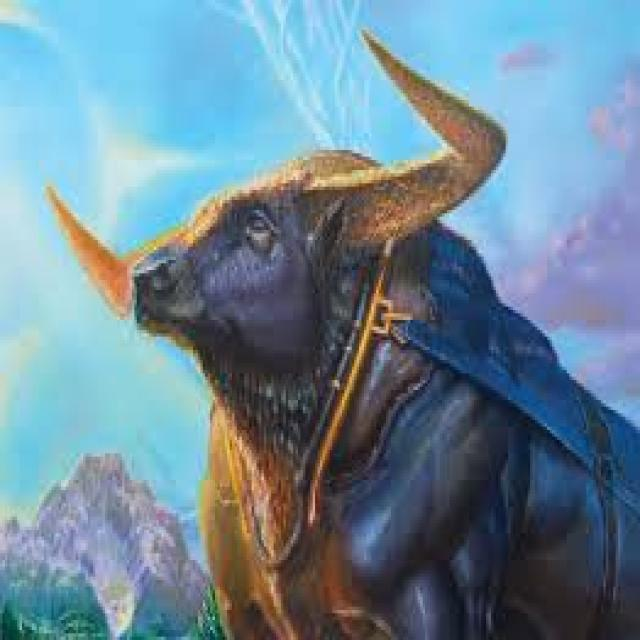Ox: (42, 23, 638, 640)
